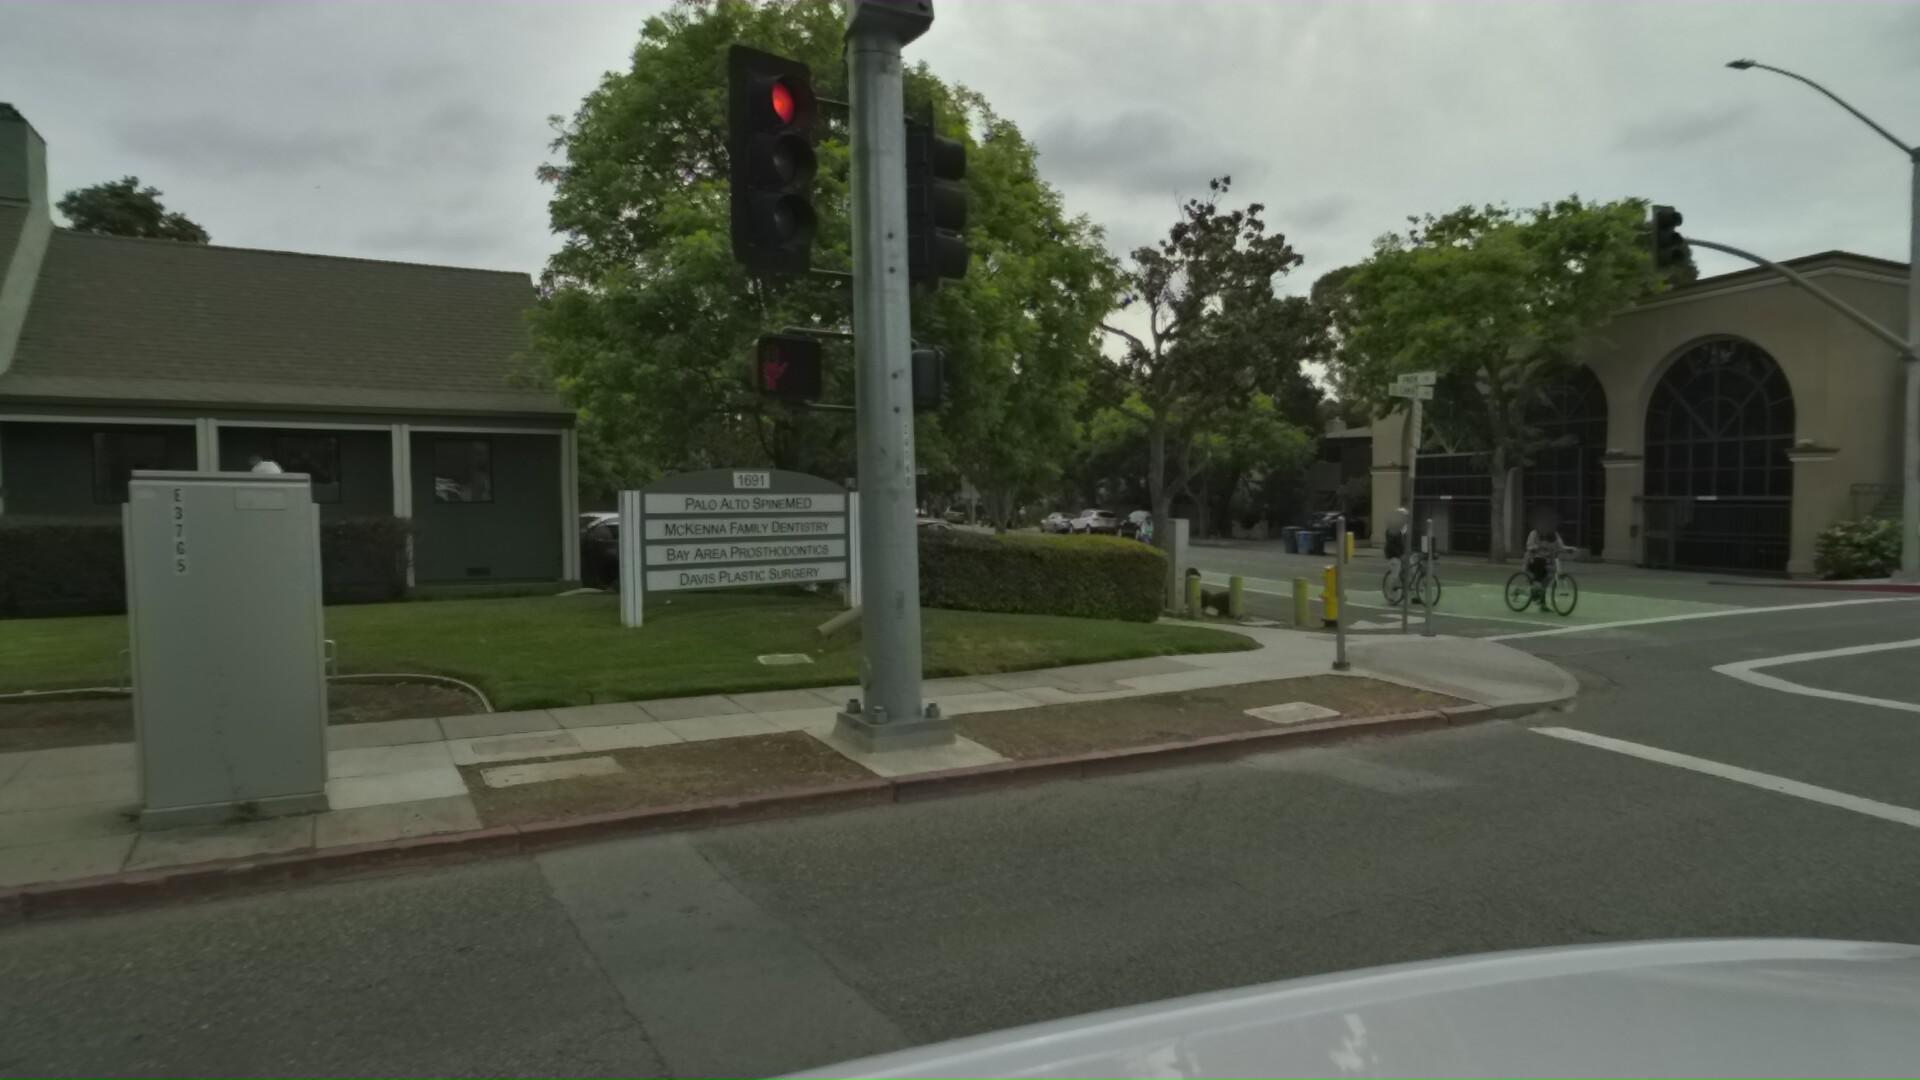bicycle: (1505, 505, 1625, 617), (1379, 500, 1476, 607), (1141, 510, 1191, 570)
car: (607, 487, 856, 583), (862, 506, 1023, 622), (539, 506, 686, 574), (611, 500, 738, 553), (1304, 502, 1375, 538), (1353, 498, 1423, 531), (1120, 504, 1182, 539), (1069, 502, 1126, 533), (1040, 506, 1092, 534), (981, 506, 1015, 527)
